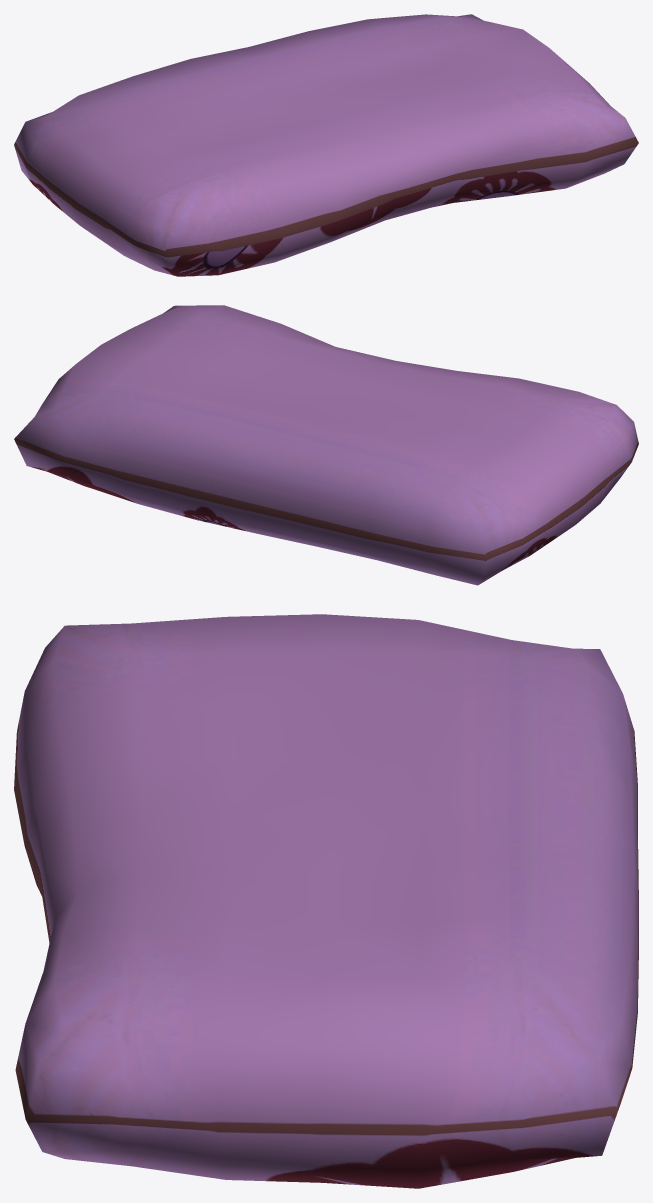
Rendered from nt_2020_pillow_01_LOD0.obj.
The picture shows the model from 3 angles, top to bottom: view 1: azimuth 30°, elevation 25°; view 2: azimuth 150°, elevation 25°; view 3: azimuth 270°, elevation 25°; orthographic projection. The views are drawn at different scales.
Parts seen in each view (by area): view 1: mtl_nt_2020_pillow_01; view 2: mtl_nt_2020_pillow_01; view 3: mtl_nt_2020_pillow_01.
Boxes of the visible parts, box(x1,y1,x2,y2) form: mtl_nt_2020_pillow_01: box(14, 14, 638, 276); mtl_nt_2020_pillow_01: box(14, 305, 638, 585); mtl_nt_2020_pillow_01: box(14, 614, 638, 1188).
Size of the model in its own units: 92.05 by 17.8 by 52.74.
